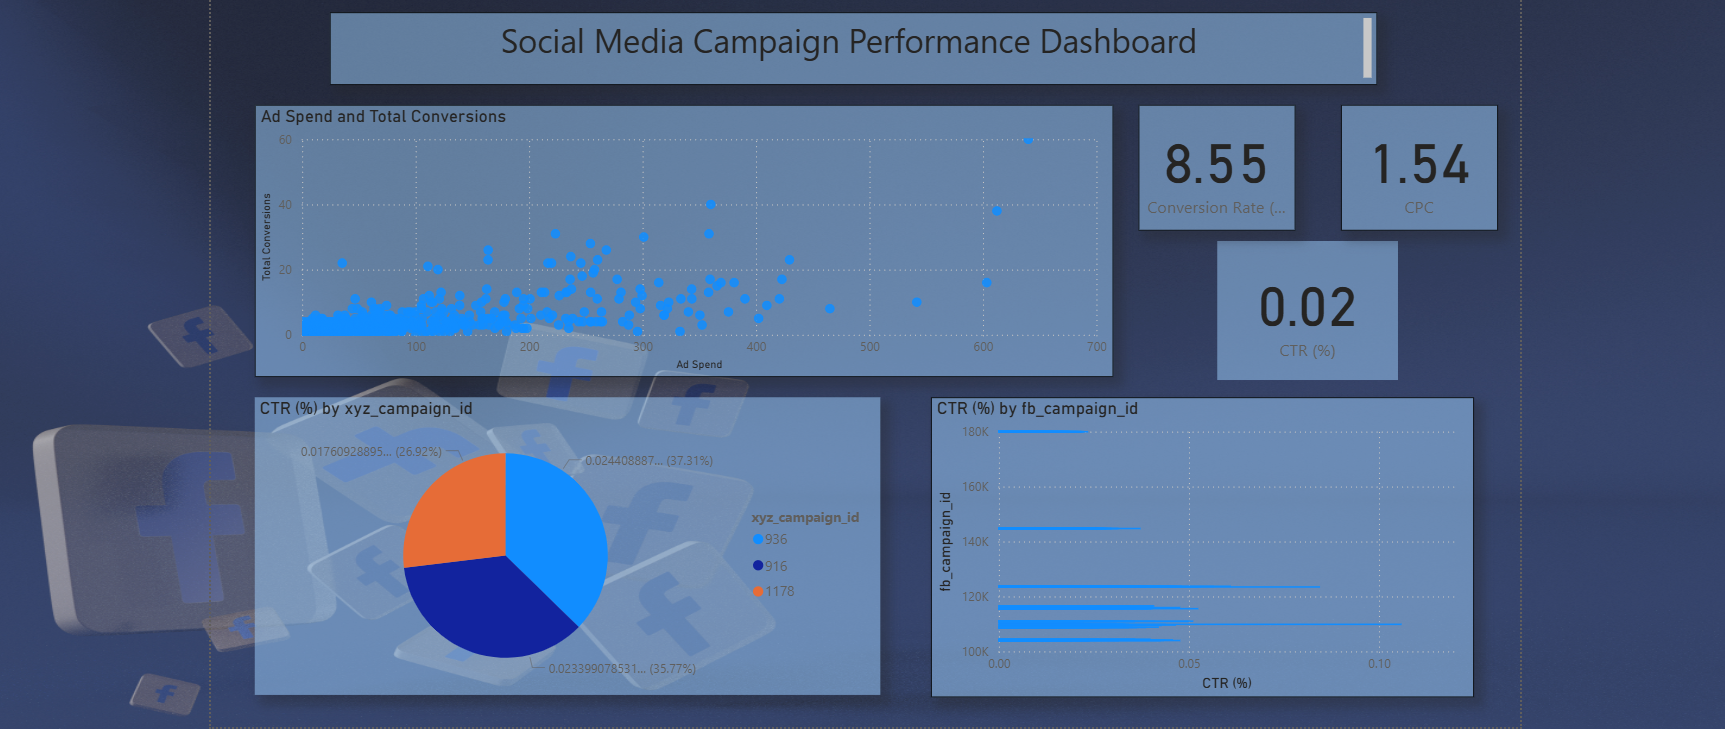

The dashboard page shown, as its layout file describes it:
{"tool":"powerbi","page":{"name":"Page 1","canvas":[1280,720],"ordinal":0},"visuals":[{"type":"card","fields":{"Values":["KAG_conversion_data.CTR (%)"]},"box":[983.9,244.3,177,135.8],"z":0},{"type":"card","fields":{"Values":["KAG_conversion_data.CPC"]},"box":[1106,111.1,153.7,123.5],"z":1},{"type":"card","fields":{"Values":["KAG_conversion_data.Conversion Rate (%)"]},"box":[907,111.1,153.7,123.5],"z":2},{"type":"clusteredBarChart","fields":{"Category":["KAG_conversion_data.fb_campaign_id"],"Y":["KAG_conversion_data.CTR (%)"]},"box":[703.9,397.9,531,293.7],"z":3},{"type":"pieChart","fields":{"Category":["KAG_conversion_data.xyz_campaign_id"],"Y":["KAG_conversion_data.CTR (%)"]},"box":[42.5,397.9,612,290.9],"z":4},{"type":"scatterChart","fields":{"X":["KAG_conversion_data.Ad Spend"],"Y":["KAG_conversion_data.Total Conversions"]},"box":[42.5,111.1,839.8,266.2],"z":5},{"type":"textbox","box":[116.6,20.6,1025,71.4],"z":6}]}

Visuals, with their boxes in screenshot pixels (x1, y1, x2, y2):
card - KAG_conversion_data.CTR (%): Rect(1219, 234, 1402, 375)
card - KAG_conversion_data.CPC: Rect(1345, 97, 1504, 224)
card - KAG_conversion_data.Conversion Rate (%): Rect(1139, 97, 1298, 224)
clusteredBarChart - KAG_conversion_data.fb_campaign_id x KAG_conversion_data.CTR (%): Rect(930, 393, 1478, 697)
pieChart - KAG_conversion_data.xyz_campaign_id x KAG_conversion_data.CTR (%): Rect(246, 393, 879, 694)
scatterChart - KAG_conversion_data.Ad Spend x KAG_conversion_data.Total Conversions: Rect(246, 97, 1114, 372)
textbox: Rect(323, 3, 1382, 77)
